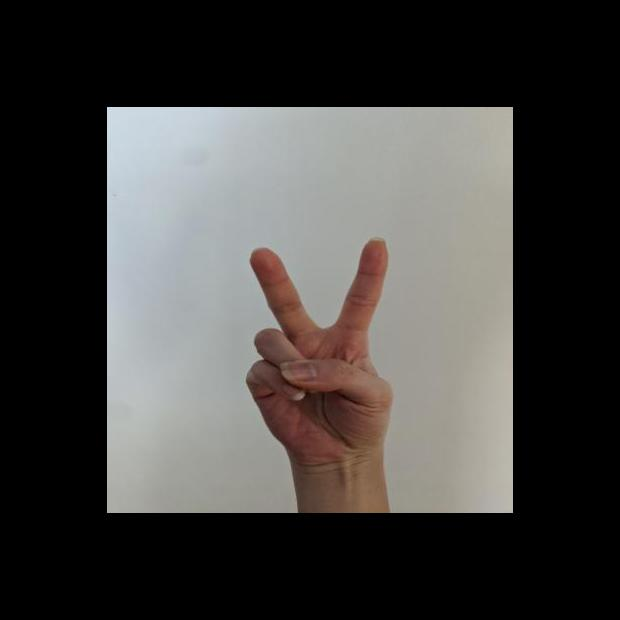U: (242, 235, 399, 473)
